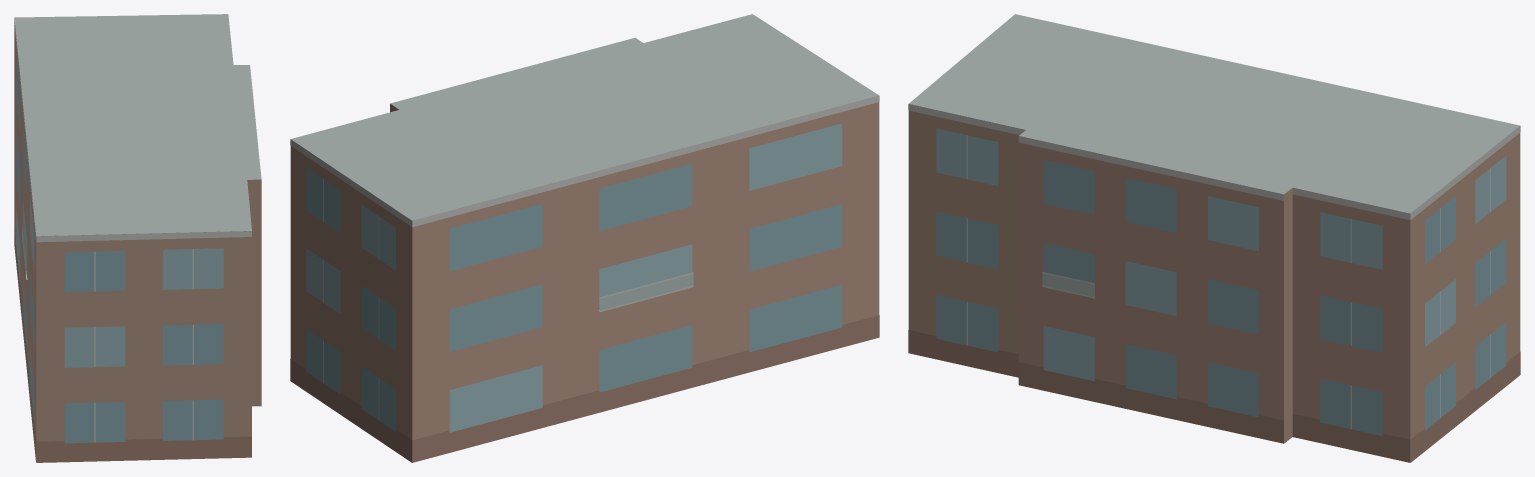
Rendered from survey-upis-32705009.glb.
3 views of the same model, side by side, from view 1: azimuth 30°, elevation 25°; view 2: azimuth 150°, elevation 25°; view 3: azimuth 270°, elevation 25° (orthographic). The views are drawn at different scales.
Parts seen in each view (by area): view 1: survey-upis-32705009.tmp; view 2: survey-upis-32705009.tmp; view 3: survey-upis-32705009.tmp.
Part boxes in pixels (box(x1,y1,x2,y2)): survey-upis-32705009.tmp: box(14, 14, 261, 462); survey-upis-32705009.tmp: box(290, 14, 879, 462); survey-upis-32705009.tmp: box(908, 14, 1520, 462).
Size of the model in its own units: 15.72 by 9.15 by 20.36.
